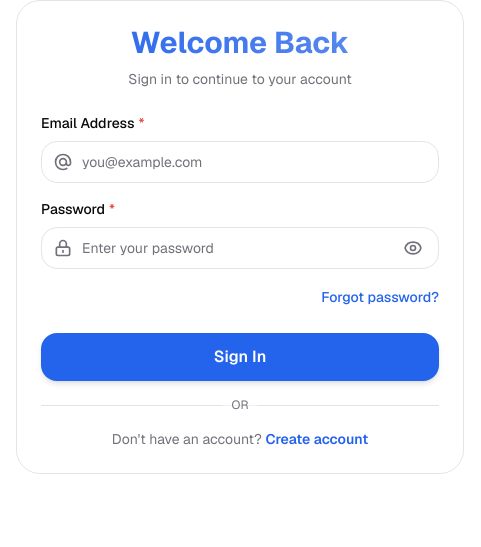
Test: LoginForm › Form Validation › should show validation errors for empty fields
Click the button "Sign In". click: (240, 357)
box: [41,333,439,381]
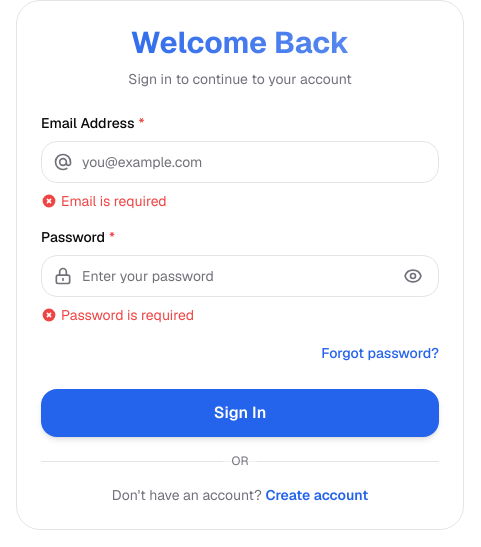
Expected: the text "Email is required" is shown, [41,192,167,210]
Expected: the text "Password is required" is shown, [41,306,194,324]
